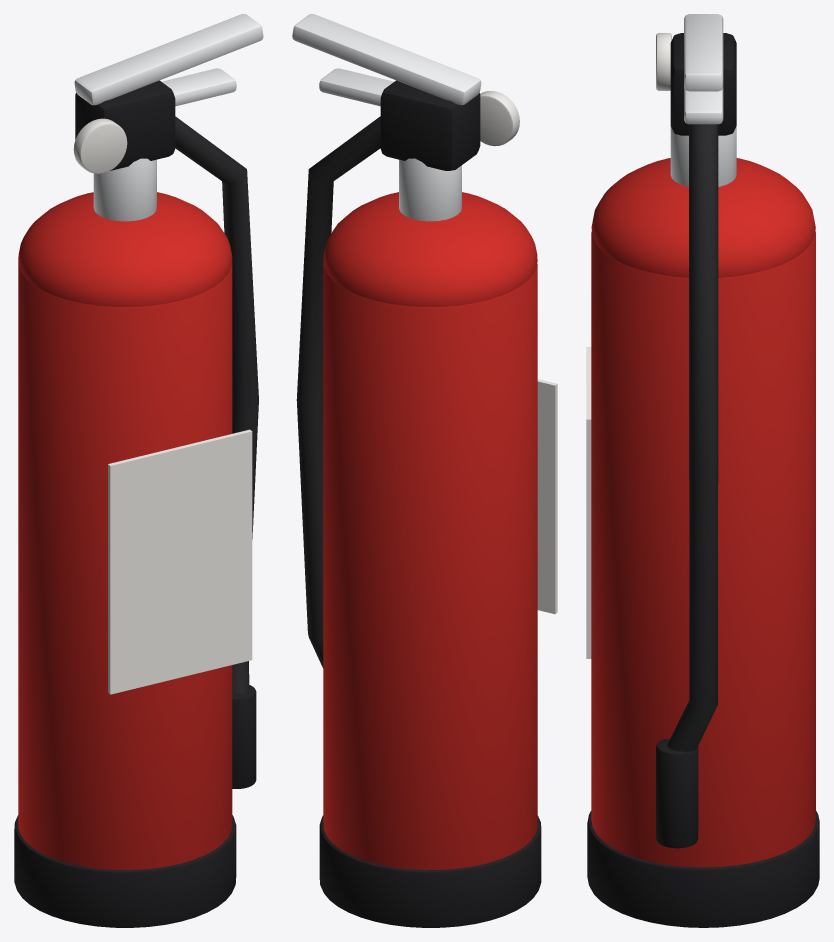
File: estintore 2.glb
The picture shows the model from 3 angles, left to right: view 1: azimuth 30°, elevation 25°; view 2: azimuth 150°, elevation 25°; view 3: azimuth 270°, elevation 25°; orthographic projection. The views are drawn at different scales.
Parts seen in each view (by area): view 1: estintore, estintore_etichetta; view 2: estintore, estintore_etichetta; view 3: estintore, estintore_etichetta.
Part boxes in pixels (x1,y1,x2,y2): estintore: (14, 14, 263, 927); estintore_etichetta: (108, 429, 252, 694); estintore: (292, 14, 541, 927); estintore_etichetta: (537, 379, 557, 614); estintore: (587, 14, 819, 927); estintore_etichetta: (586, 347, 591, 658).
Bounding box in the file's own units: 0.2085 × 0.728 × 0.177.
